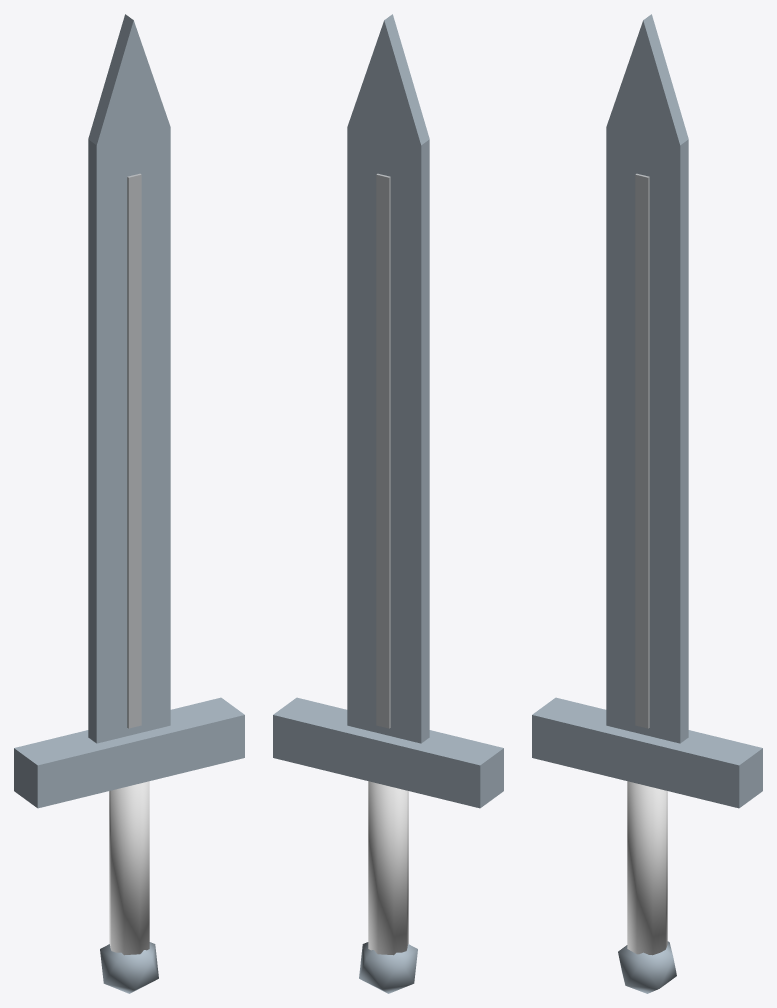
File: platinum_broadsword.glb
3 views of the same model, side by side, from view 1: azimuth 30°, elevation 25°; view 2: azimuth 150°, elevation 25°; view 3: azimuth 330°, elevation 25° (orthographic).
Parts seen in each view (by area): view 1: platinum_broadsword_v0; view 2: platinum_broadsword_v0; view 3: platinum_broadsword_v0.
Boxes of the visible parts, box(x1,y1,x2,y2) form: platinum_broadsword_v0: box(14, 14, 244, 993); platinum_broadsword_v0: box(273, 14, 503, 993); platinum_broadsword_v0: box(532, 14, 762, 993).
Bounding box in the file's own units: 0.252 × 1.13 × 0.0595.
